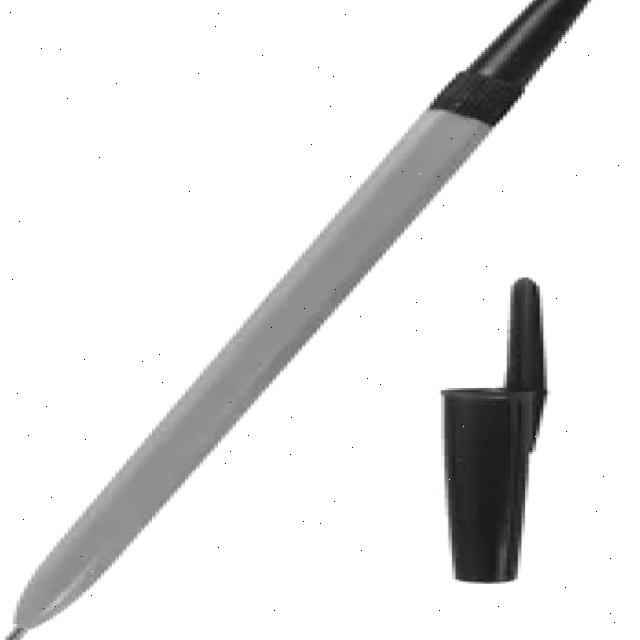pencil: (0, 0, 600, 640)
